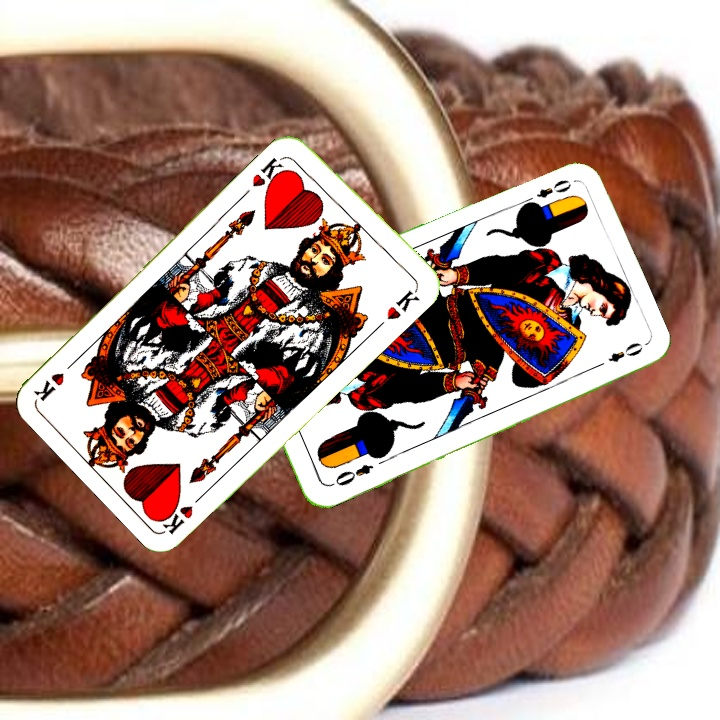EO: (519, 175, 574, 208), (326, 460, 376, 490)
HK: (156, 487, 209, 537), (248, 151, 291, 194)
